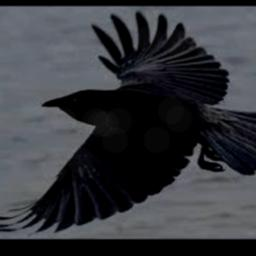Crow: (0, 11, 256, 233)
